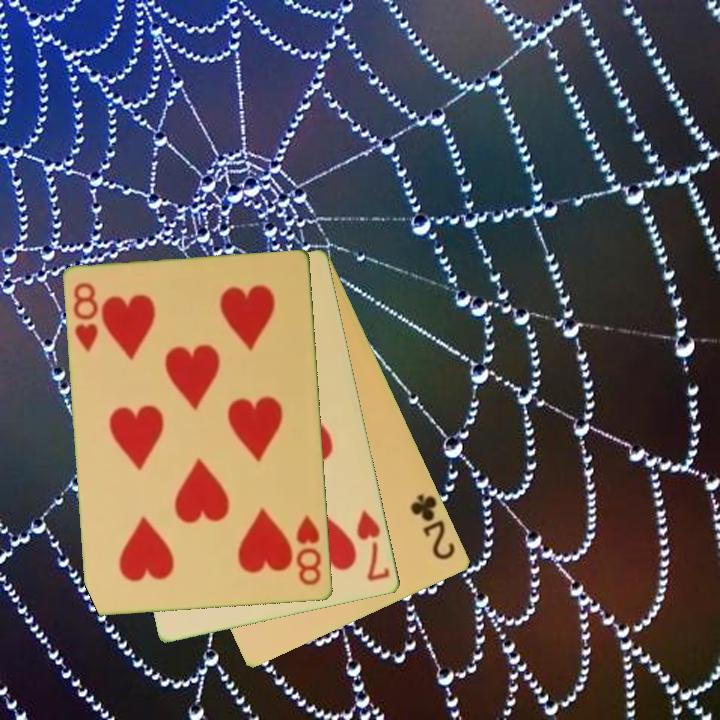2c: (407, 490, 459, 564)
7h: (353, 506, 394, 585)
8h: (70, 279, 102, 356), (293, 512, 324, 589)
